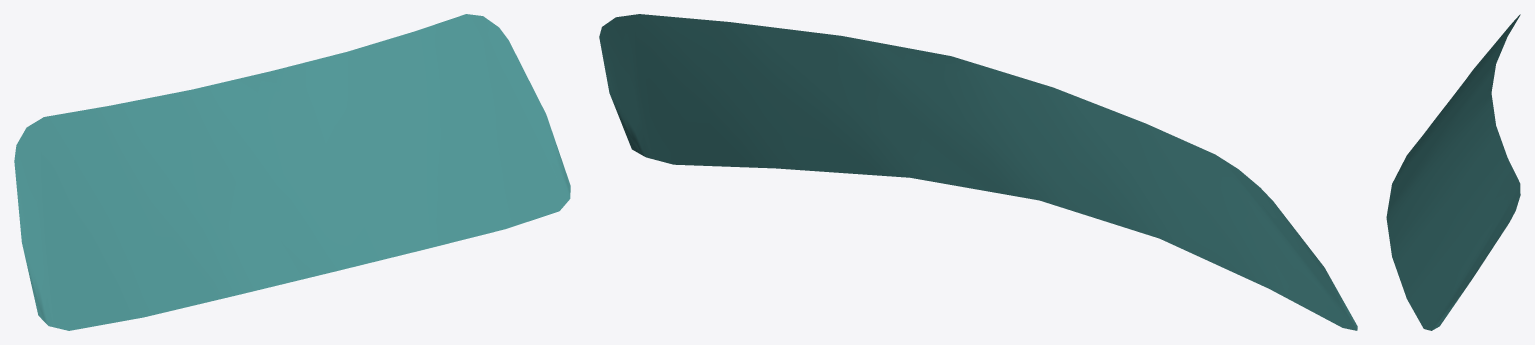
Rendered from Classic_2_Glass_F_Tesselated.fbx.
3 views of the same model, side by side, from view 1: azimuth 30°, elevation 25°; view 2: azimuth 150°, elevation 25°; view 3: azimuth 270°, elevation 25° (orthographic). The views are drawn at different scales.
Visible parts, largest first — view 1: Classic_2_Glass_F_Tesselated; view 2: Classic_2_Glass_F_Tesselated; view 3: Classic_2_Glass_F_Tesselated.
Part boxes in pixels (bbox=[...]): Classic_2_Glass_F_Tesselated: bbox=[14, 14, 570, 330]; Classic_2_Glass_F_Tesselated: bbox=[599, 14, 1357, 330]; Classic_2_Glass_F_Tesselated: bbox=[1386, 14, 1520, 330].
Size of the model in its own units: 252 by 76.86 by 67.52.
